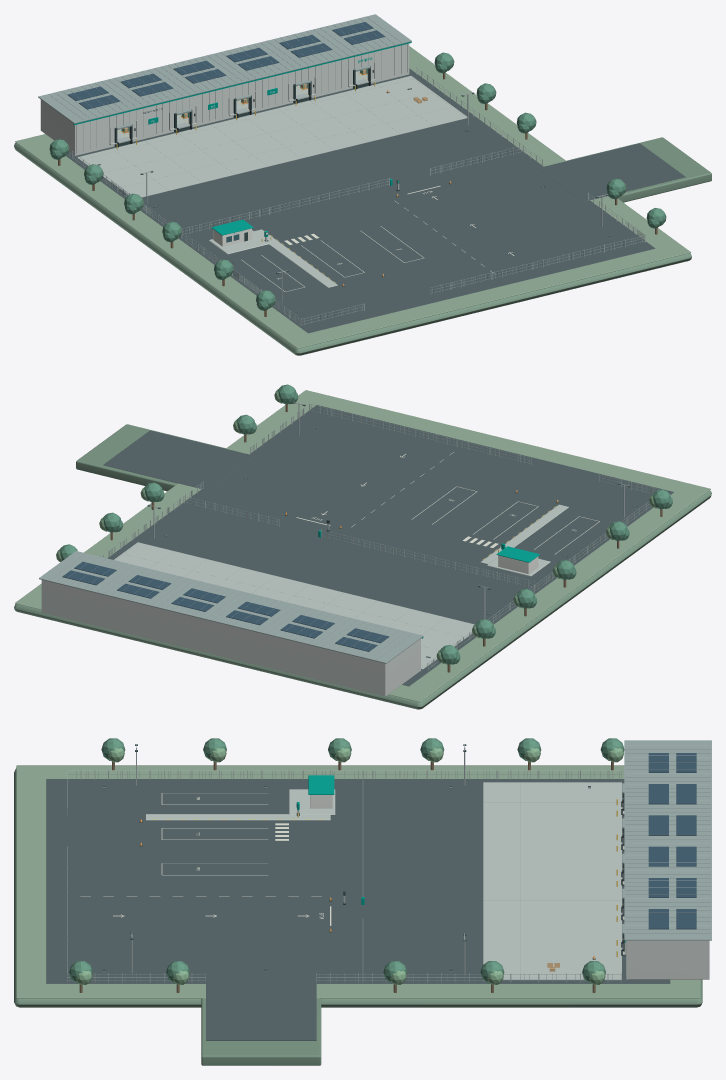
Rendered from yard-lunch.glb.
3 renders of one model, top to bottom at view 1: azimuth 30°, elevation 25°; view 2: azimuth 150°, elevation 25°; view 3: azimuth 270°, elevation 25°, orthographic. The views are drawn at different scales.
Visible parts, largest first — view 1: Asphalt, North apron, Meadow, Apron joint, Warehouse back, Diorama base, Roof seam, Solar module, Icosphere, Teal parapet, Dock jamb, Carton strap; view 2: Asphalt, Meadow, Warehouse back, Apron joint, North apron, Diorama base, Roof seam, Solar module, Icosphere, Carton strap, Icosphere.002; view 3: Asphalt, North apron, Meadow, Apron joint, Diorama base, Roof seam, Solar module, Warehouse back, Icosphere, Icosphere.002, Carton strap, Teal parapet.
Boxes of the visible parts, x1,y1,x2,y2 form: Asphalt: [66, 68, 685, 333]; North apron: [78, 71, 467, 287]; Meadow: [15, 46, 690, 348]; Apron joint: [38, 14, 644, 324]; Warehouse back: [40, 43, 409, 155]; Diorama base: [14, 137, 711, 355]; Roof seam: [48, 17, 645, 326]; Solar module: [67, 22, 385, 109]; Icosphere: [49, 52, 665, 310]; Teal parapet: [73, 41, 411, 236]; Dock jamb: [97, 66, 612, 312]; Carton strap: [126, 71, 514, 291]; Asphalt: [103, 405, 674, 686]; Meadow: [15, 390, 710, 702]; Warehouse back: [41, 580, 420, 696]; Apron joint: [39, 405, 651, 668]; North apron: [114, 504, 568, 669]; Diorama base: [14, 424, 711, 709]; Roof seam: [50, 402, 659, 670]; Solar module: [62, 561, 389, 651]; Icosphere: [59, 384, 672, 664]; Carton strap: [296, 452, 599, 554]; Icosphere.002: [56, 389, 656, 663]; Asphalt: [46, 779, 670, 1040]; North apron: [145, 782, 625, 979]; Meadow: [16, 765, 700, 998]; Apron joint: [76, 740, 711, 981]; Diorama base: [14, 768, 702, 1065]; Roof seam: [67, 744, 710, 982]; Solar module: [648, 753, 696, 929]; Warehouse back: [624, 940, 709, 979]; Icosphere: [69, 738, 624, 983]; Icosphere.002: [75, 748, 623, 984]; Carton strap: [80, 793, 331, 925]; Teal parapet: [297, 775, 625, 942].
Size of the model in its own units: 149 by 12.89 by 151.
